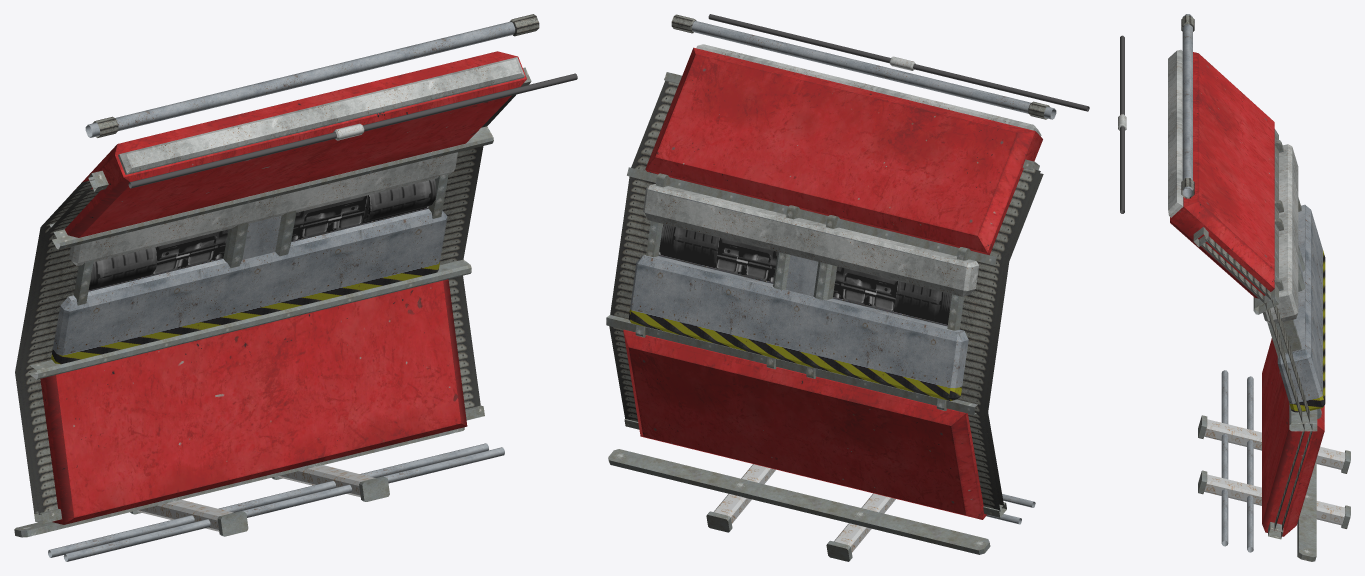
Rendered from Ob_FloatingTunnelWall_RC.fbx.
3 renders of one model, left to right at view 1: azimuth 30°, elevation 25°; view 2: azimuth 150°, elevation 25°; view 3: azimuth 270°, elevation 25°, orthographic. The views are drawn at different scales.
Visible parts, largest first — view 1: Ob_FloatingTunnelWall_RC; view 2: Ob_FloatingTunnelWall_RC; view 3: Ob_FloatingTunnelWall_RC.
Part boxes in pixels (x1,y1,x2,y2): Ob_FloatingTunnelWall_RC: (14,14,577,561); Ob_FloatingTunnelWall_RC: (606,14,1089,561); Ob_FloatingTunnelWall_RC: (1118,14,1350,561).
Size of the model in its own units: 2518 by 2680 by 1424.
